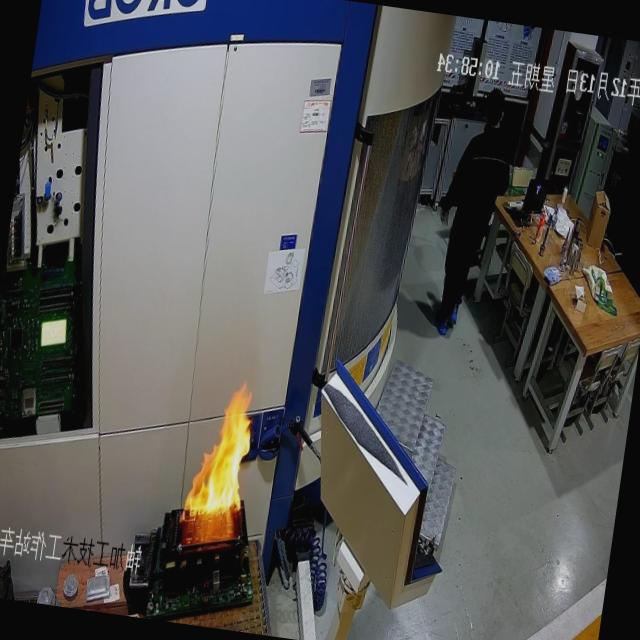fire: (156, 354, 279, 579)
